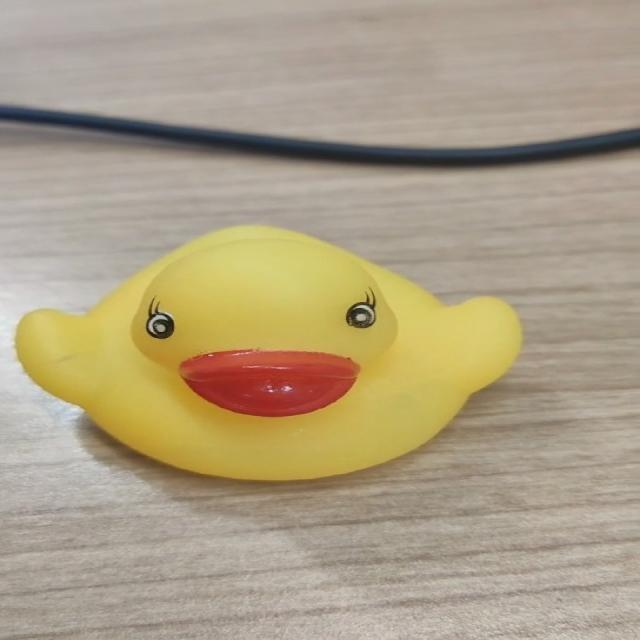rubber-duck: (15, 225, 520, 478)
